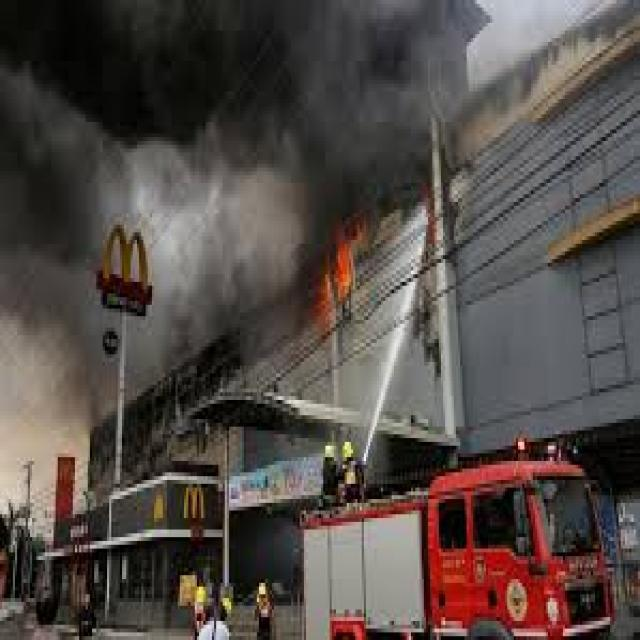Fire: (316, 211, 375, 322)
Smoke: (0, 0, 449, 217), (0, 173, 311, 396)
